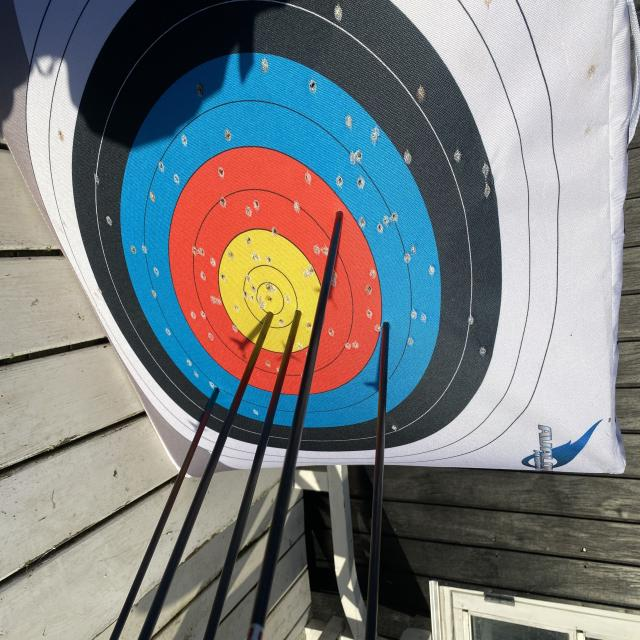Arrow_Blue: (374, 309, 402, 353), (202, 372, 230, 412)
Arrow_Red: (330, 197, 356, 237)
Arrow_Yellow: (260, 293, 282, 332), (289, 300, 308, 331)
